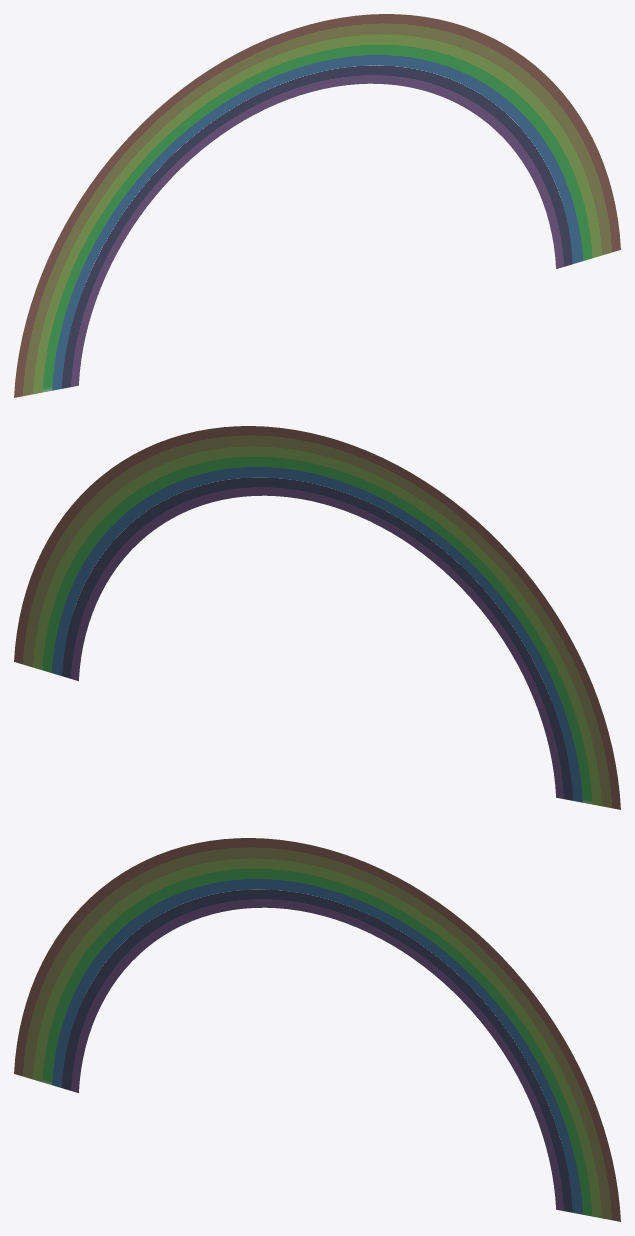
The model's file is arcoiris.FBX.
3 renders of one model, top to bottom at view 1: azimuth 30°, elevation 25°; view 2: azimuth 150°, elevation 25°; view 3: azimuth 330°, elevation 25°, orthographic.
Visible parts, largest first — view 1: Plane001; view 2: Plane001; view 3: Plane001.
Part boxes in pixels (x1,y1,x2,y2): Plane001: (14,14,620,397); Plane001: (14,426,620,809); Plane001: (14,838,620,1221).
Bounding box in the file's own units: 258 × 124 × 1.92e-05.
